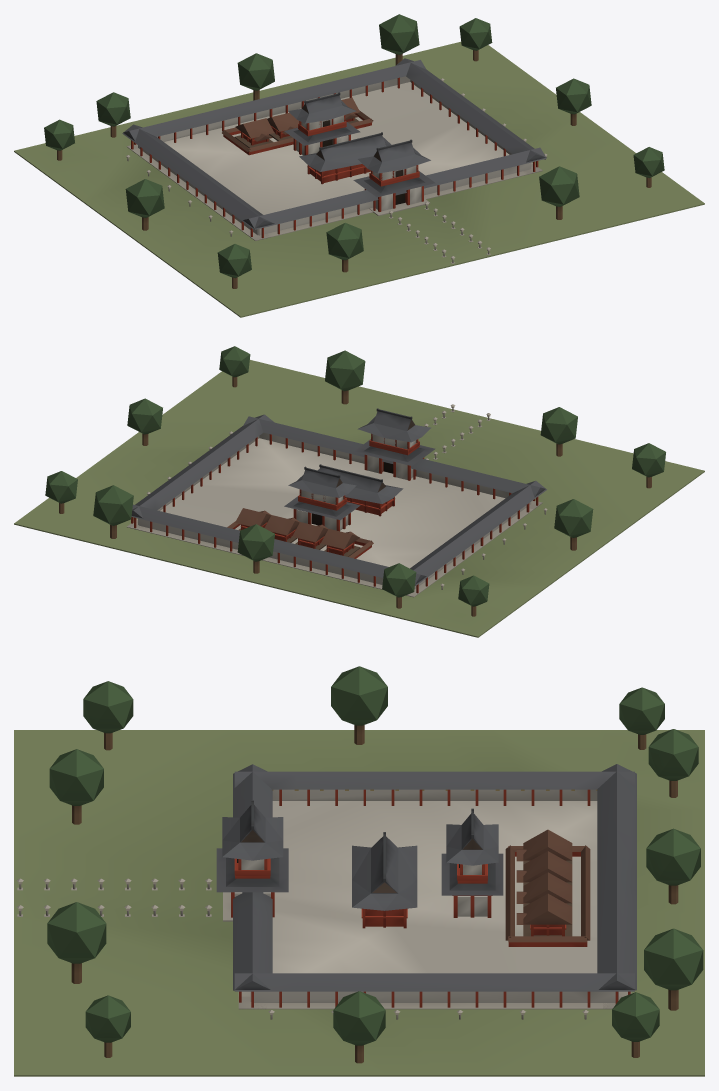
Rendered from kasuga-taisha.glb.
The picture shows the model from 3 angles, top to bottom: view 1: azimuth 30°, elevation 25°; view 2: azimuth 150°, elevation 25°; view 3: azimuth 270°, elevation 25°; orthographic projection. The views are drawn at different scales.
Visible parts, largest first — view 1: p0_grounds, p1_halls, p2_lanterns; view 2: p0_grounds, p1_halls, p2_lanterns; view 3: p0_grounds, p2_lanterns, p1_halls.
Part boxes in pixels (x1,y1,x2,y2): p0_grounds: (14,41,704,317); p1_halls: (122,58,546,240); p2_lanterns: (44,14,664,288); p0_grounds: (14,360,704,637); p1_halls: (127,414,546,597); p2_lanterns: (45,346,665,616); p0_grounds: (14,730,704,1076); p2_lanterns: (16,666,703,1063); p1_halls: (223,764,636,1009).
Size of the model in its own units: 130 by 16.04 by 110.
